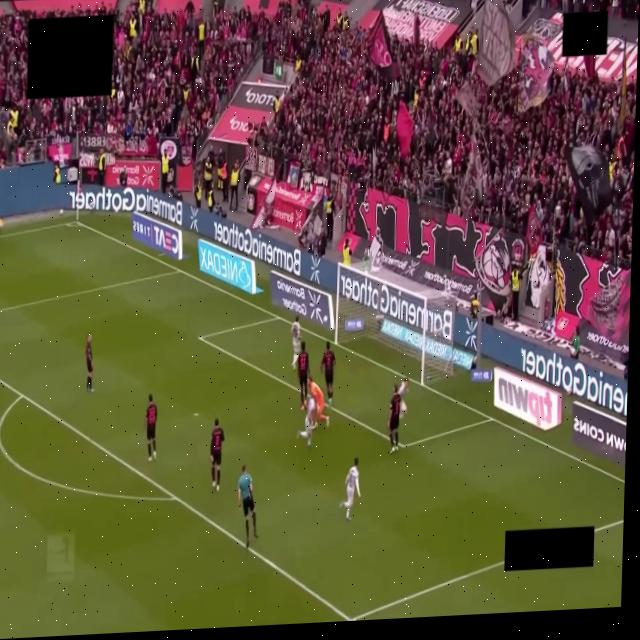player: (339, 458, 360, 520), (308, 377, 328, 428), (210, 419, 224, 491), (388, 385, 401, 453), (297, 397, 315, 446), (321, 342, 334, 407), (145, 394, 156, 461), (297, 342, 309, 403), (289, 315, 301, 369), (85, 334, 92, 392), (398, 378, 408, 418)
referee: (237, 466, 257, 547)
